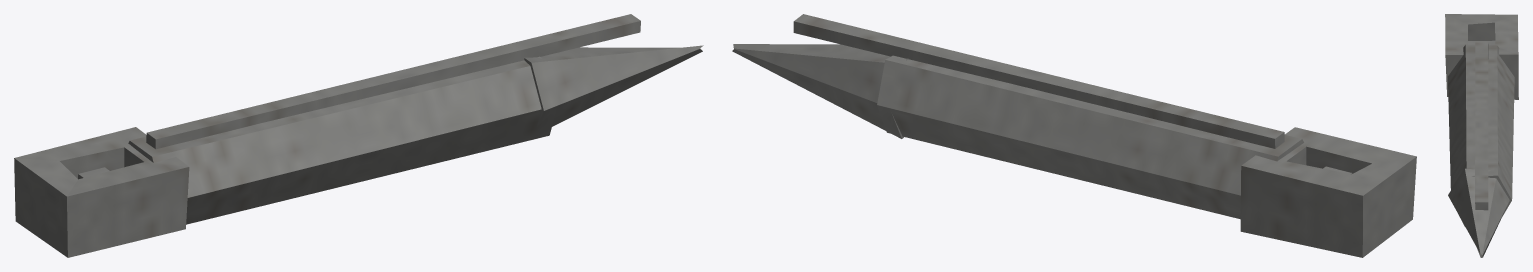
The model's file is needle_common.glb.
3 renders of one model, left to right at view 1: azimuth 30°, elevation 25°; view 2: azimuth 150°, elevation 25°; view 3: azimuth 270°, elevation 25°, orthographic. The views are drawn at different scales.
Parts seen in each view (by area): view 1: NeedleCommon; view 2: NeedleCommon; view 3: NeedleCommon.
Part boxes in pixels (x1,y1,x2,y2): NeedleCommon: (14,14,703,257); NeedleCommon: (732,14,1416,257); NeedleCommon: (1445,14,1518,257).
Bounding box in the file's own units: 0.3368 × 0.0416 × 0.0477.
Materials: 1 (1 with a texture image).
